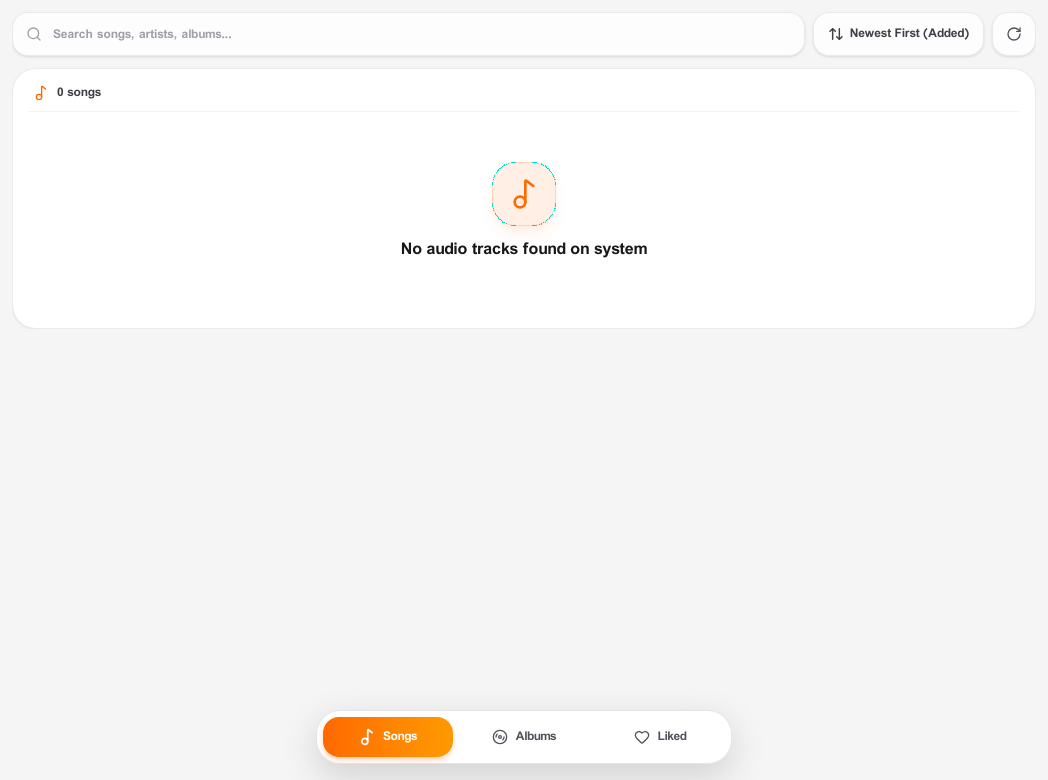
Test case: MusicPlayerView › switches tab content when clicking navigation items and defaults to Songs
The width and height of the screenshot is (1048, 780).
Check: the field with placeholder "Search songs, artists, albums..." is shown, box [12,12,805,56]
Click the tab "Liked": (660, 737) [595,717,725,757]
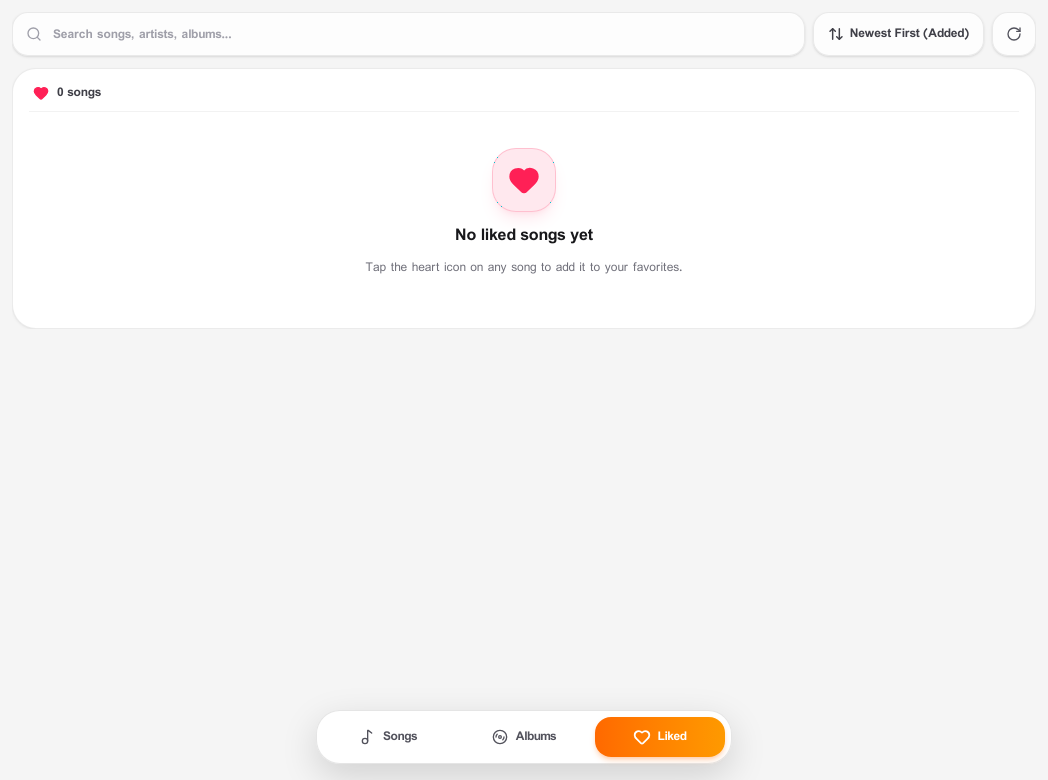
Check: the heading "No liked songs yet" is shown, box [455,224,593,248]
Click the tab "Albums": (524, 737) [459,717,589,757]
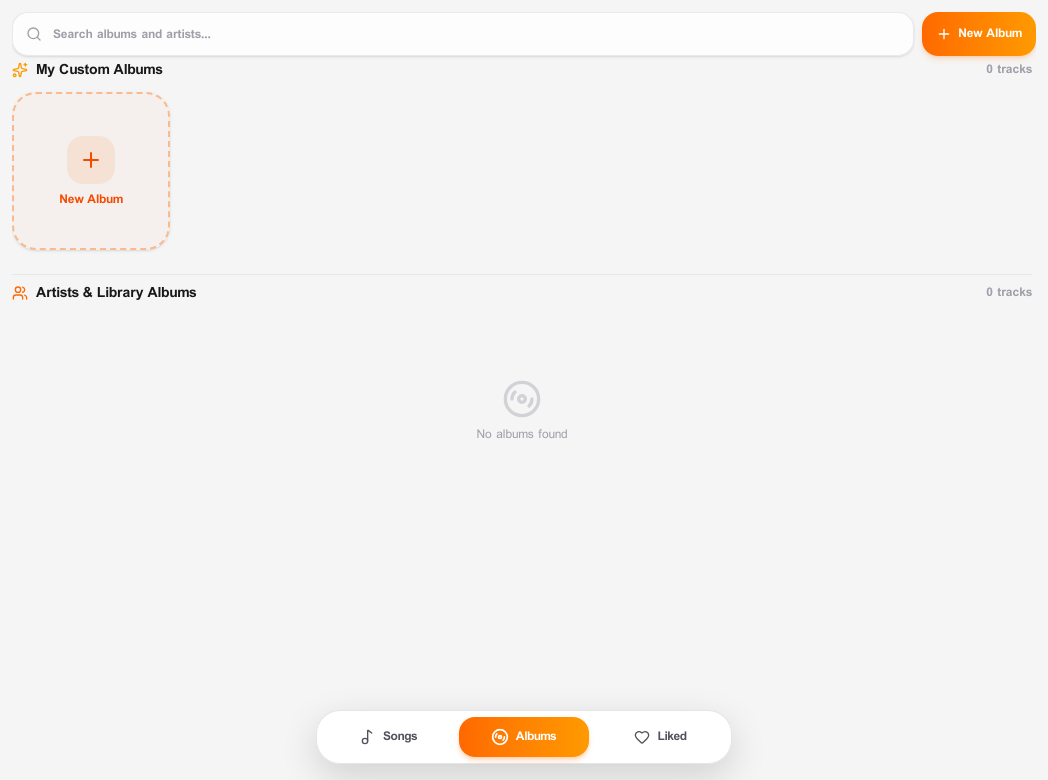
Check: the heading "My Custom Albums" is shown, box [36,60,163,80]
